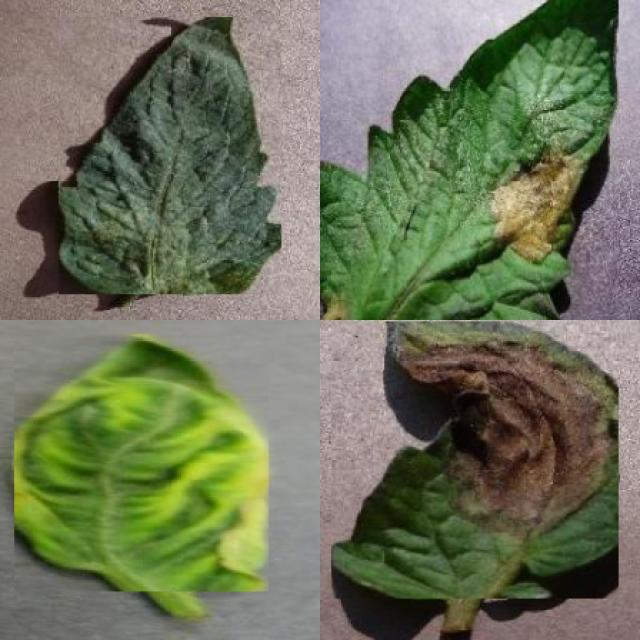Late Blight: (320, 0, 619, 320), (332, 322, 618, 598)
Spider Mites: (58, 18, 282, 295)
Yellow Leaf Curl Virus: (15, 335, 268, 591)
